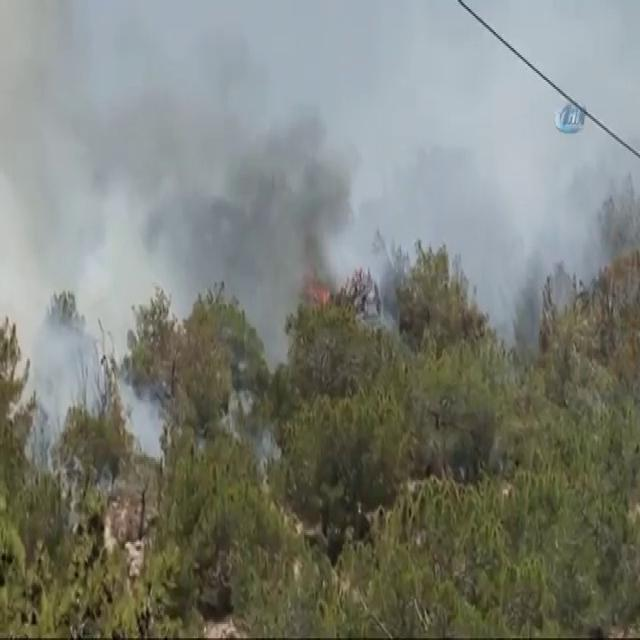Fire: (302, 264, 347, 316)
Smoke: (84, 31, 384, 220)
